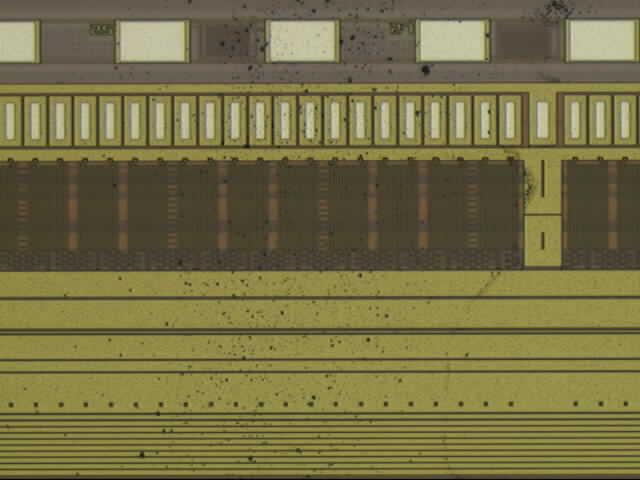PO CONTAMINATION: (103, 1, 605, 460)
